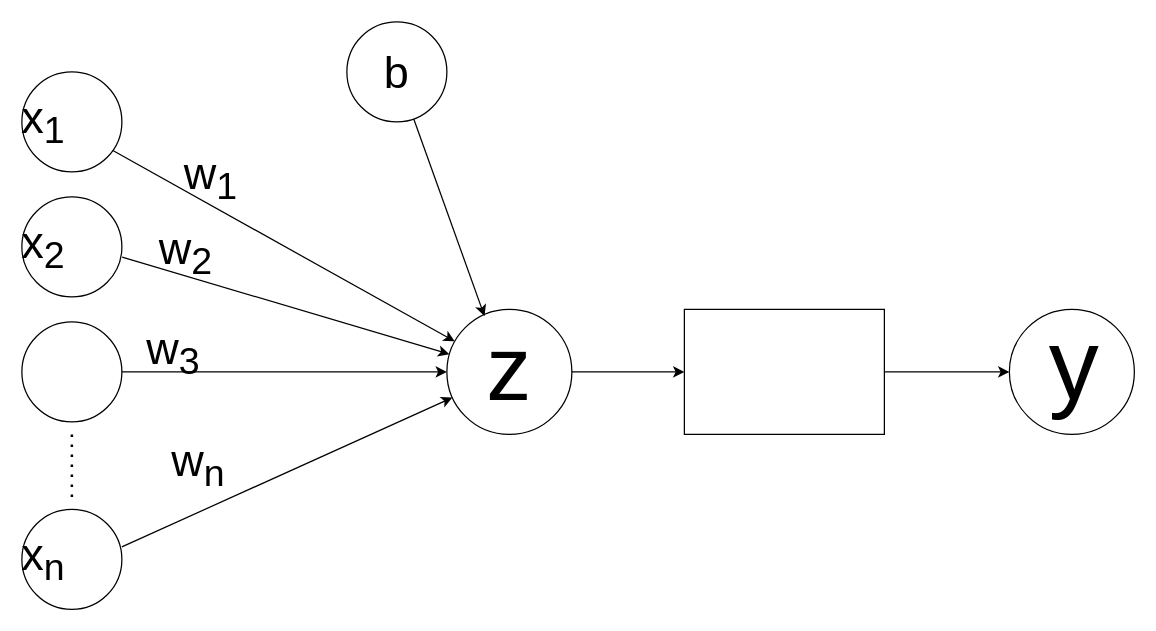
The diagram is 1156 pixels wide and 631 high, and some of its shapes have lost their labels. The centre of each missing label's shape, as x and y in pixels:
f(z): [783,371]
x 3: [71,371]
